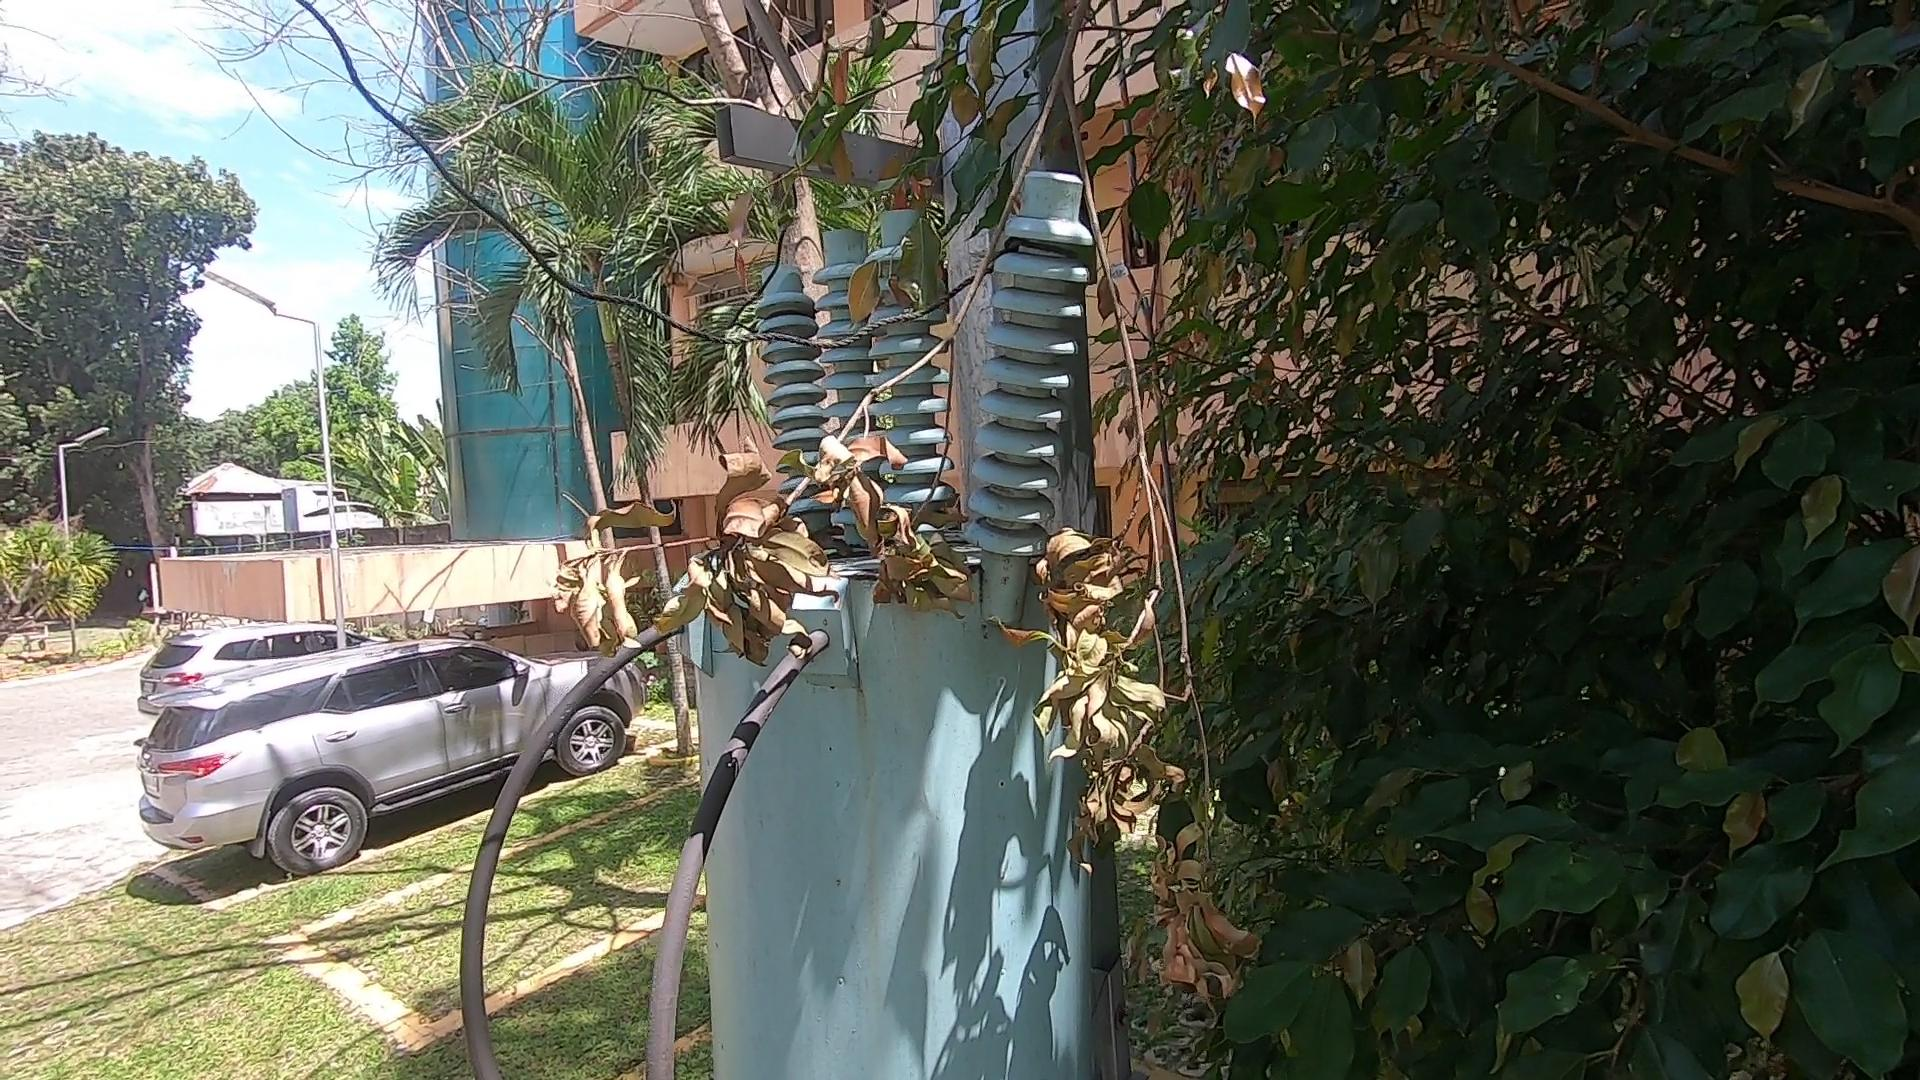branch with leaves: (535, 5, 1266, 1027)
leaf: (822, 524, 861, 564)
